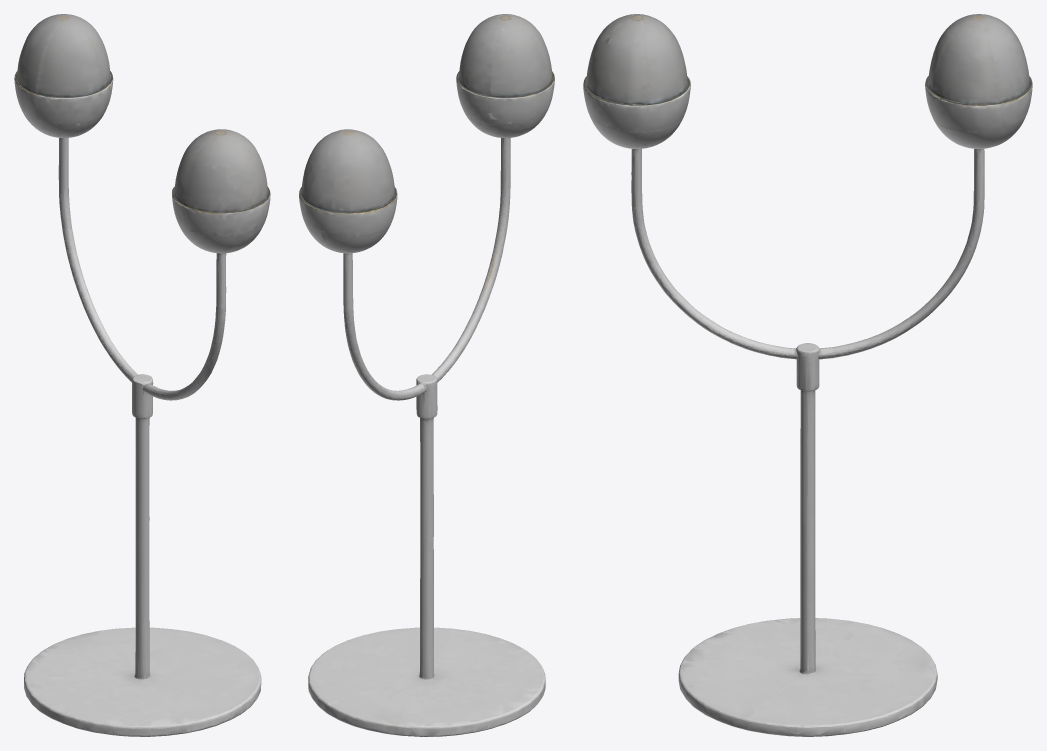
The model's file is 06_2_yellowdot_hatch_sculpture.glb.
The picture shows the model from 3 angles, left to right: view 1: azimuth 30°, elevation 25°; view 2: azimuth 150°, elevation 25°; view 3: azimuth 270°, elevation 25°; orthographic projection. The views are drawn at different scales.
Parts seen in each view (by area): view 1: tripo_node_255af805-eb27-4e73-92d3-60428f30a700; view 2: tripo_node_255af805-eb27-4e73-92d3-60428f30a700; view 3: tripo_node_255af805-eb27-4e73-92d3-60428f30a700.
Boxes of the visible parts, x1,y1,x2,y2 form: tripo_node_255af805-eb27-4e73-92d3-60428f30a700: (14,14,270,736); tripo_node_255af805-eb27-4e73-92d3-60428f30a700: (299,14,554,736); tripo_node_255af805-eb27-4e73-92d3-60428f30a700: (583,14,1032,736).
Size of the model in its own units: 0.117 by 0.333 by 0.2027.
Materials: 1 (1 with a texture image).
